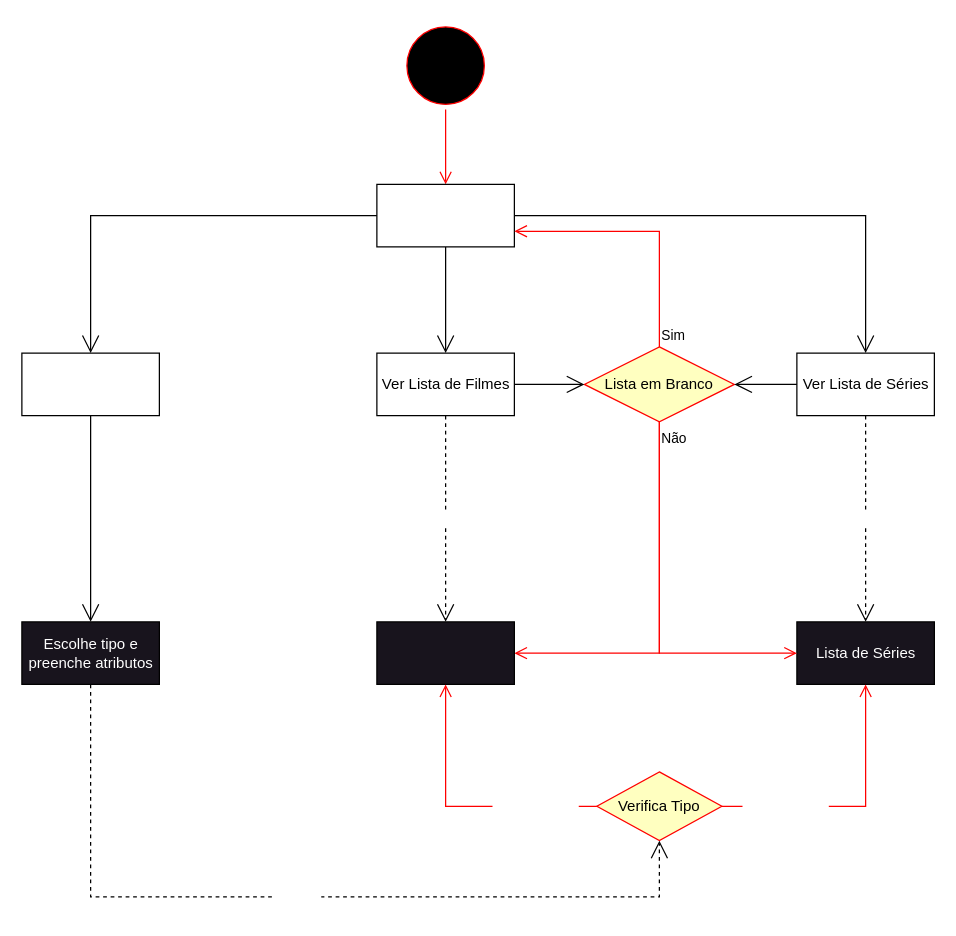
Image size: 956x936. Some labels were removed from this diagram. The box of each missing label's shape, as (x1, y1, x2, y2) in pixels:
Adicionar novo: (21, 352, 159, 416)
Lista de Filmes: (376, 621, 514, 684)
Menu Principal: (376, 183, 514, 247)
